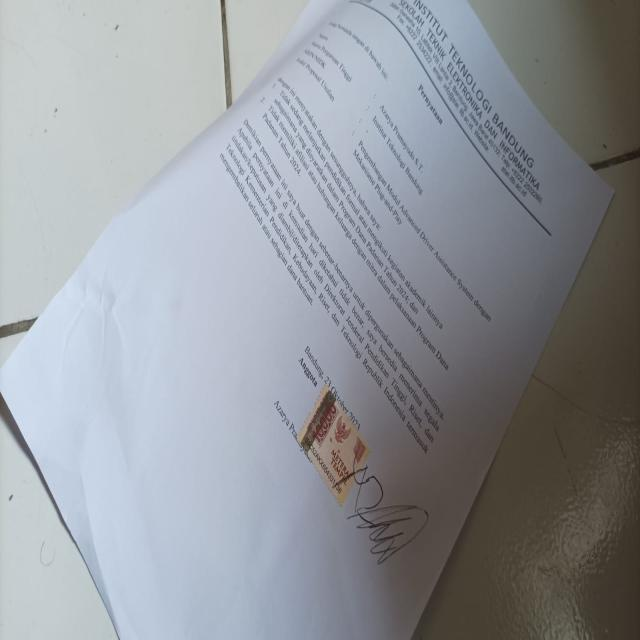Organik: (0, 0, 608, 640)
